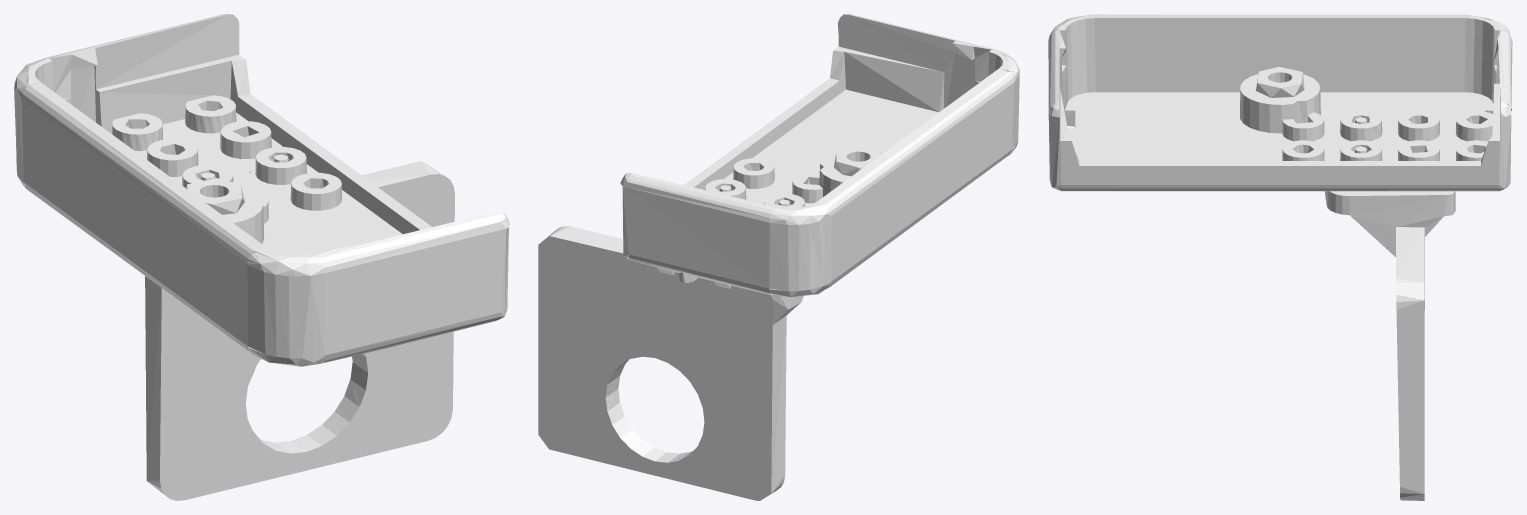
Rendered from scara_id5_l.dae.
The picture shows the model from 3 angles, left to right: view 1: azimuth 30°, elevation 25°; view 2: azimuth 150°, elevation 25°; view 3: azimuth 270°, elevation 25°; orthographic projection. The views are drawn at different scales.
Visible parts, largest first — view 1: ID5_L; view 2: ID5_L; view 3: ID5_L.
Boxes of the visible parts, x1,y1,x2,y2 form: ID5_L: [14, 14, 509, 500]; ID5_L: [538, 14, 1019, 500]; ID5_L: [1048, 14, 1512, 500].
Bounding box in the file's own units: 0.0321 × 0.0401 × 0.0325.
Materials: 1 (1 with a texture image).
